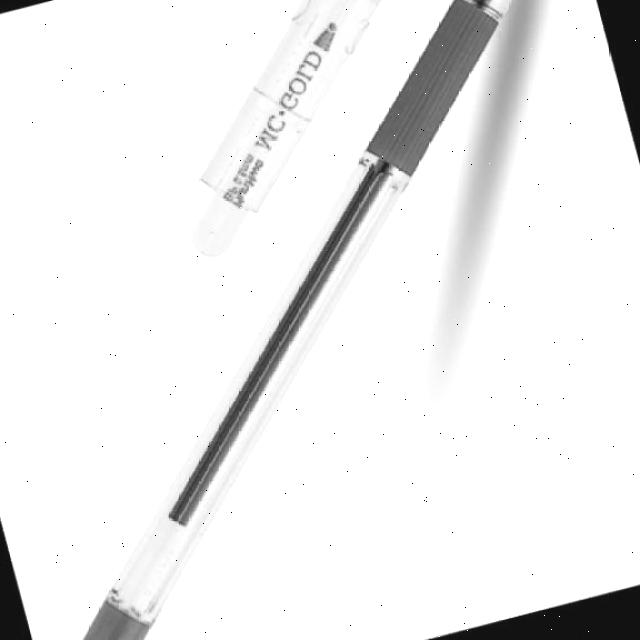pencil: (50, 0, 560, 640)
